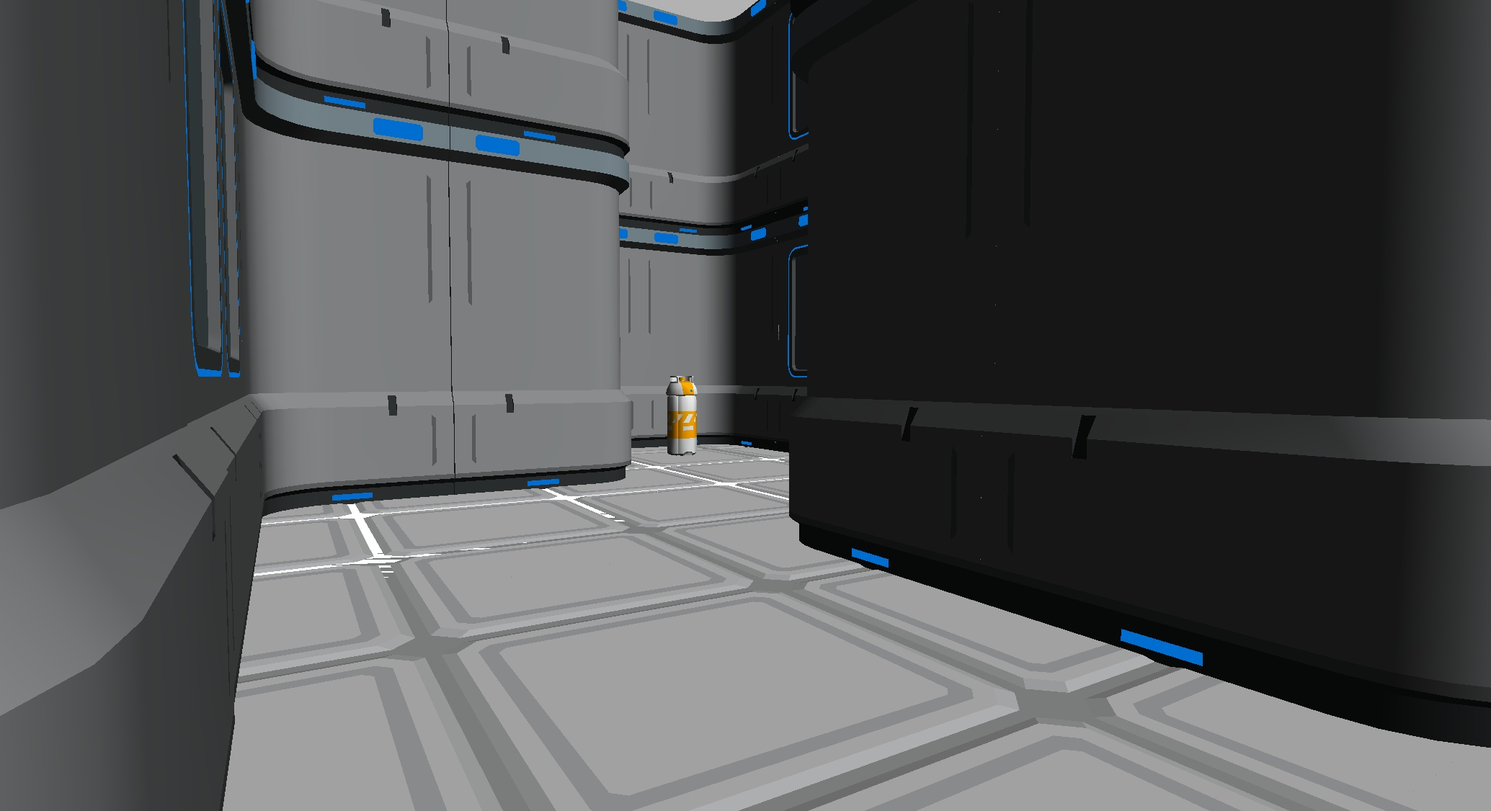yellow_barrel: (668, 377, 698, 454)
